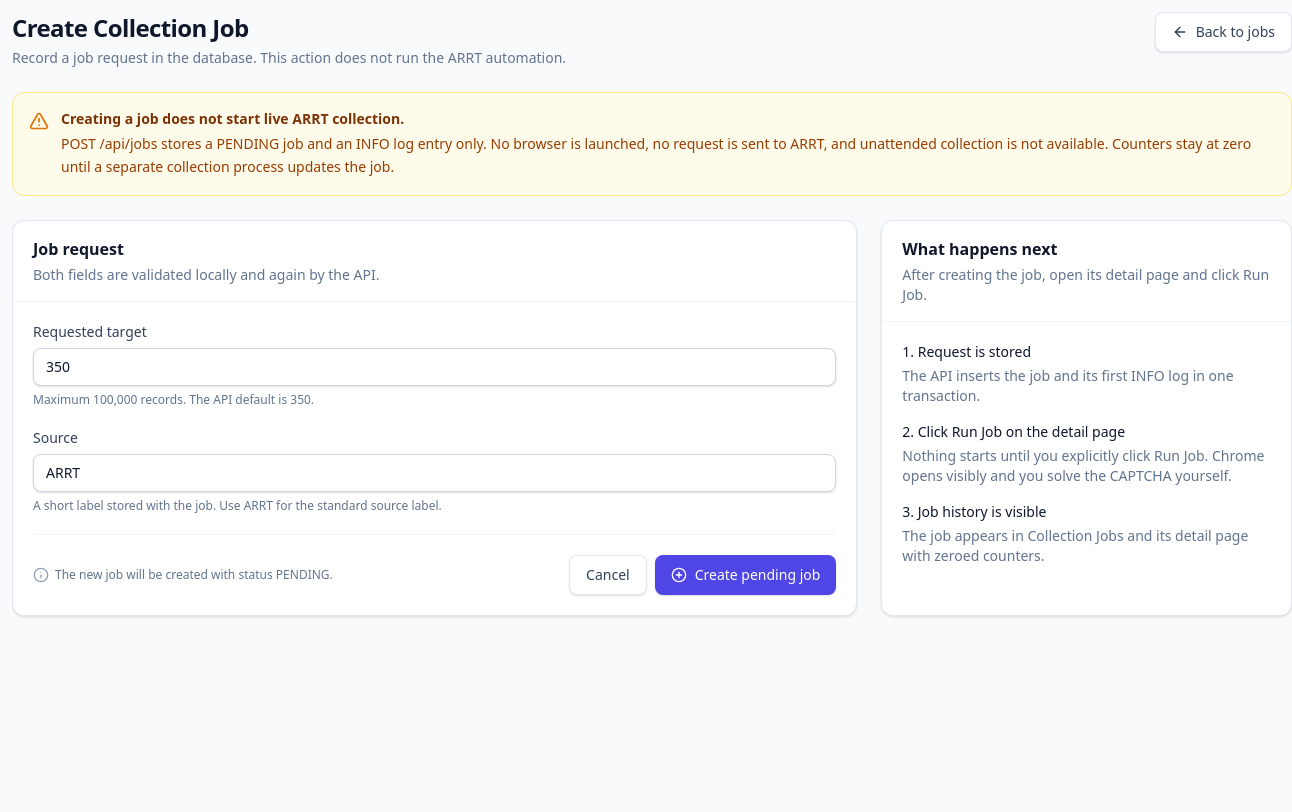
CreateJobForm › validates the requested target before calling the API
The image size is (1292, 812).
Replace the text in the number field labelled "Requested target" with "100001" at (435,366), box [33,348,836,386]
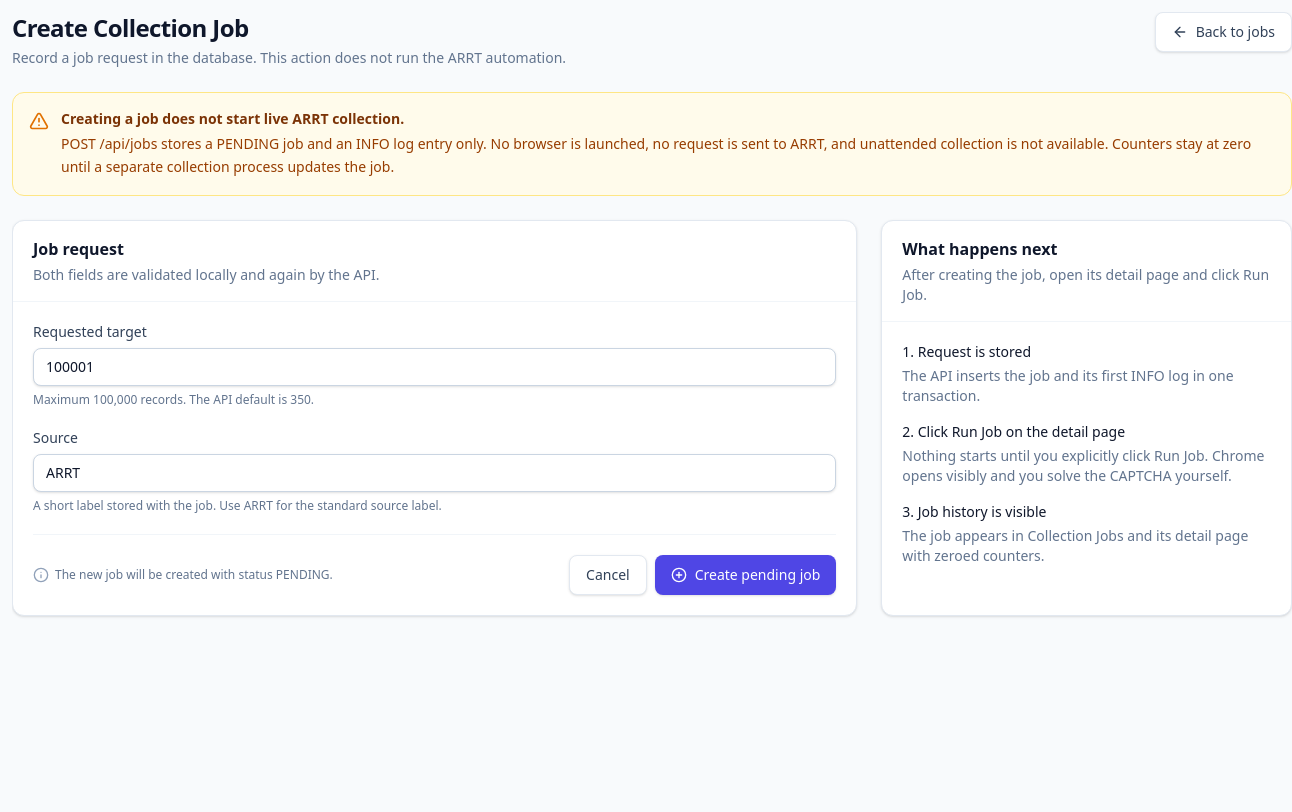
Click the button "Create pending job".
click(746, 574)  # box [655,554,836,594]
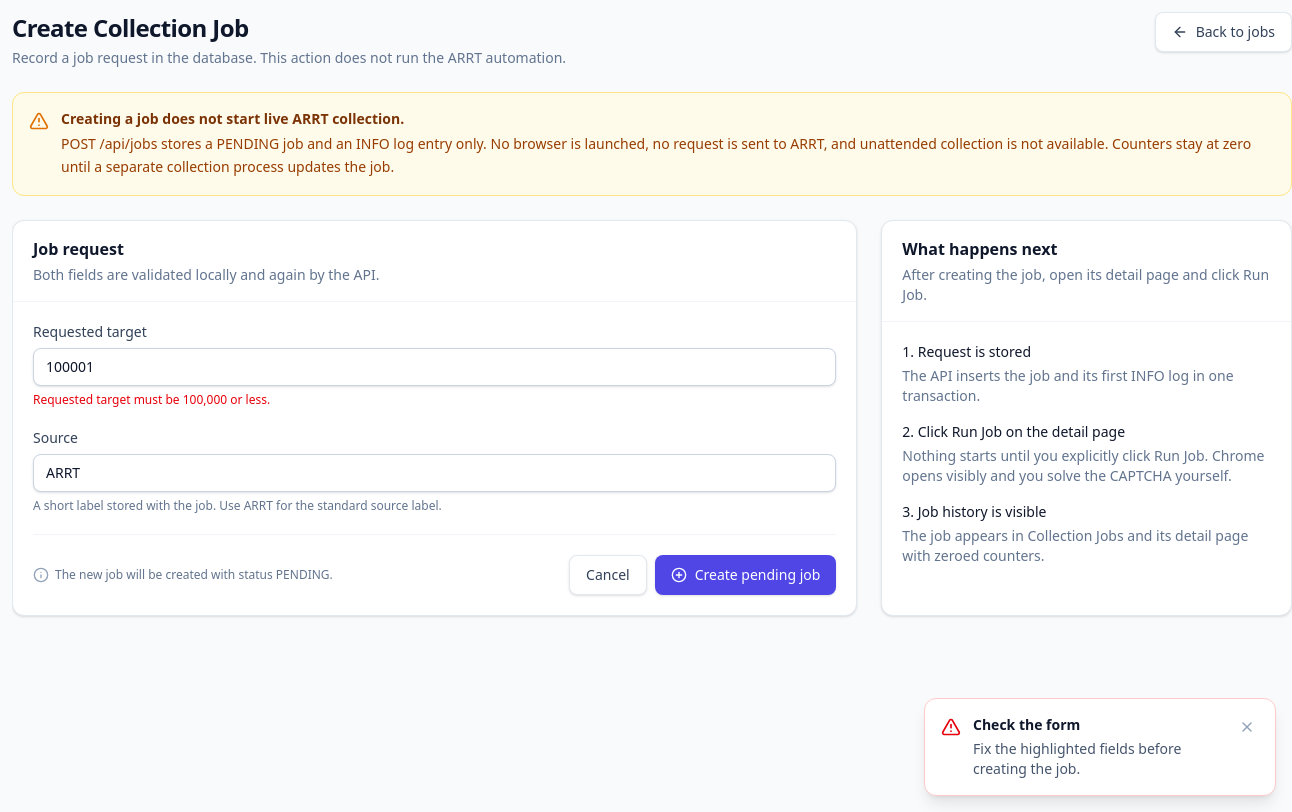
Expected: the text "Requested target must be 100,000 or less." is shown, [33,390,270,408]
